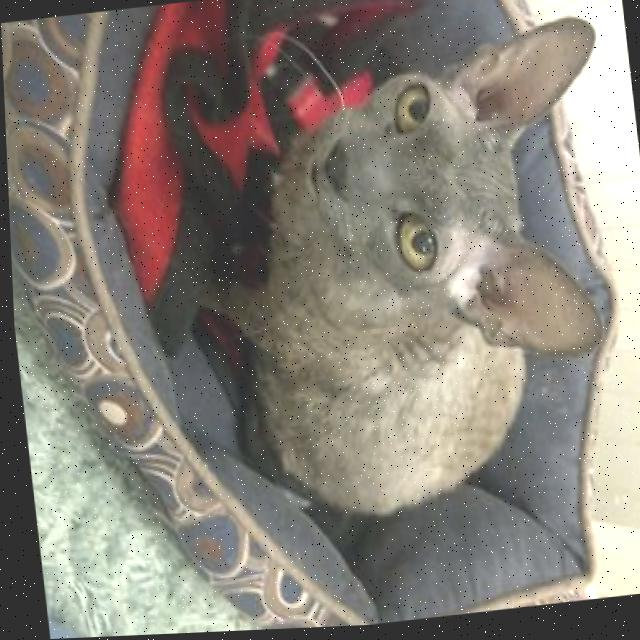Cornish Rex: (174, 8, 640, 537)
